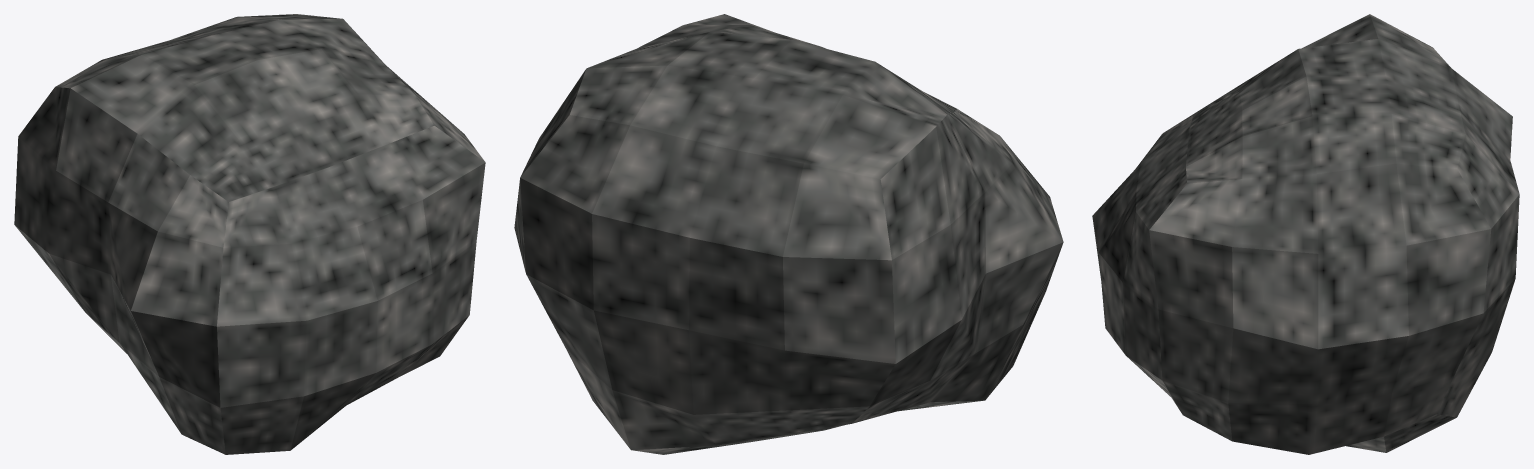
The model's file is SM_EC_Rock_43.fbx.
3 renders of one model, left to right at view 1: azimuth 30°, elevation 25°; view 2: azimuth 150°, elevation 25°; view 3: azimuth 270°, elevation 25°, orthographic. The views are drawn at different scales.
Parts seen in each view (by area): view 1: SM_EC_Rock_43; view 2: SM_EC_Rock_43; view 3: SM_EC_Rock_43.
Boxes of the visible parts, box(x1,y1,x2,y2) form: SM_EC_Rock_43: box(14, 14, 485, 454); SM_EC_Rock_43: box(514, 14, 1063, 454); SM_EC_Rock_43: box(1092, 14, 1519, 454).
Size of the model in its own units: 0.5672 by 0.5319 by 0.4707.
